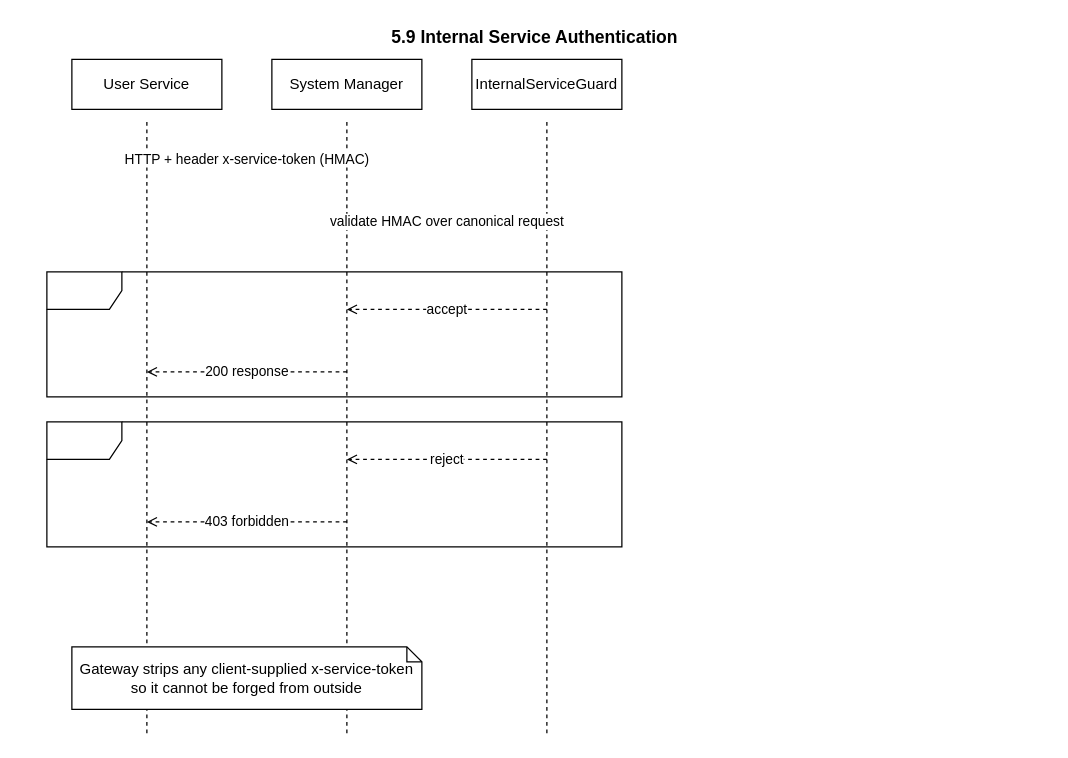
This 1068x758 diagram has some shape labels left out. Each missing label, with the centre of its shape:
alt HMAC valid and timestamp fresh: the point at 334,334
else invalid or stale: the point at 334,484
